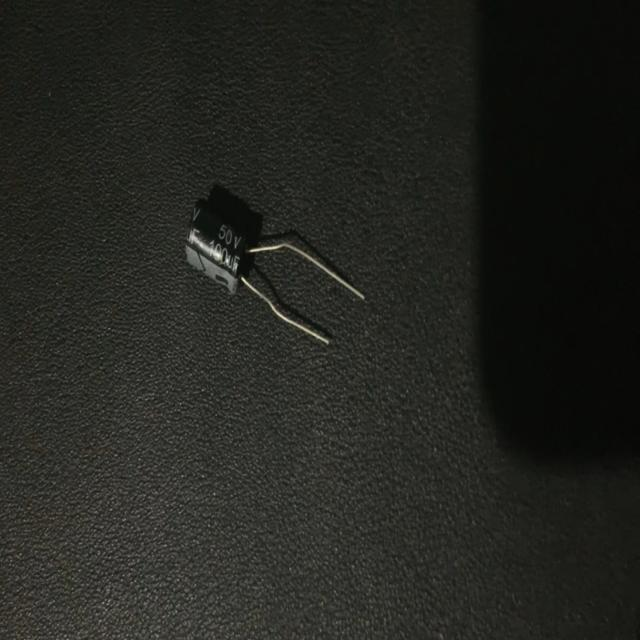capacitor: (182, 184, 366, 351)
